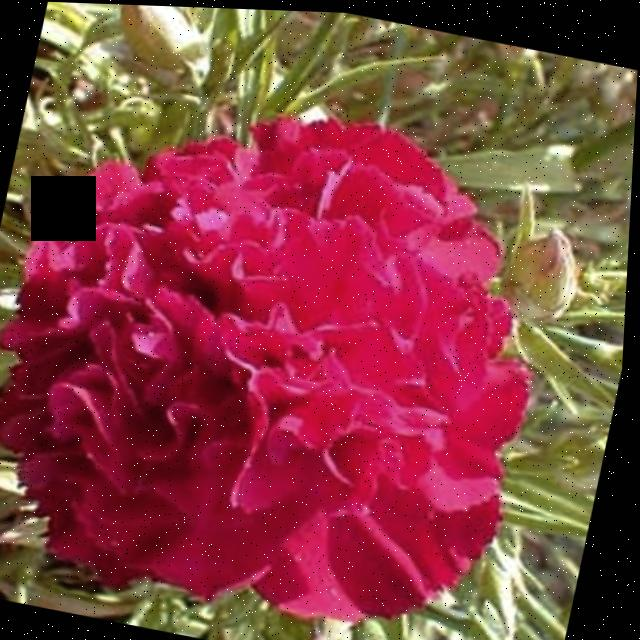carnation: (0, 59, 577, 640)
